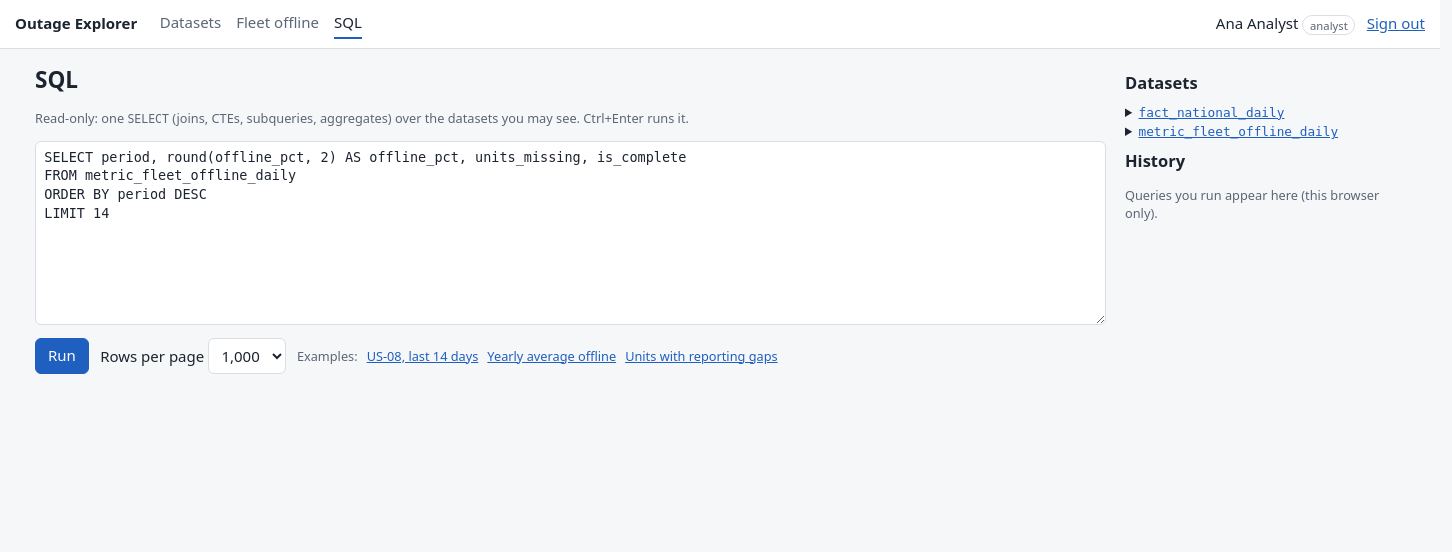
Test: SQL page › pages with next_offset and comes back with Prev
Click the button "Run" at (62, 356), box [35,338,89,374]
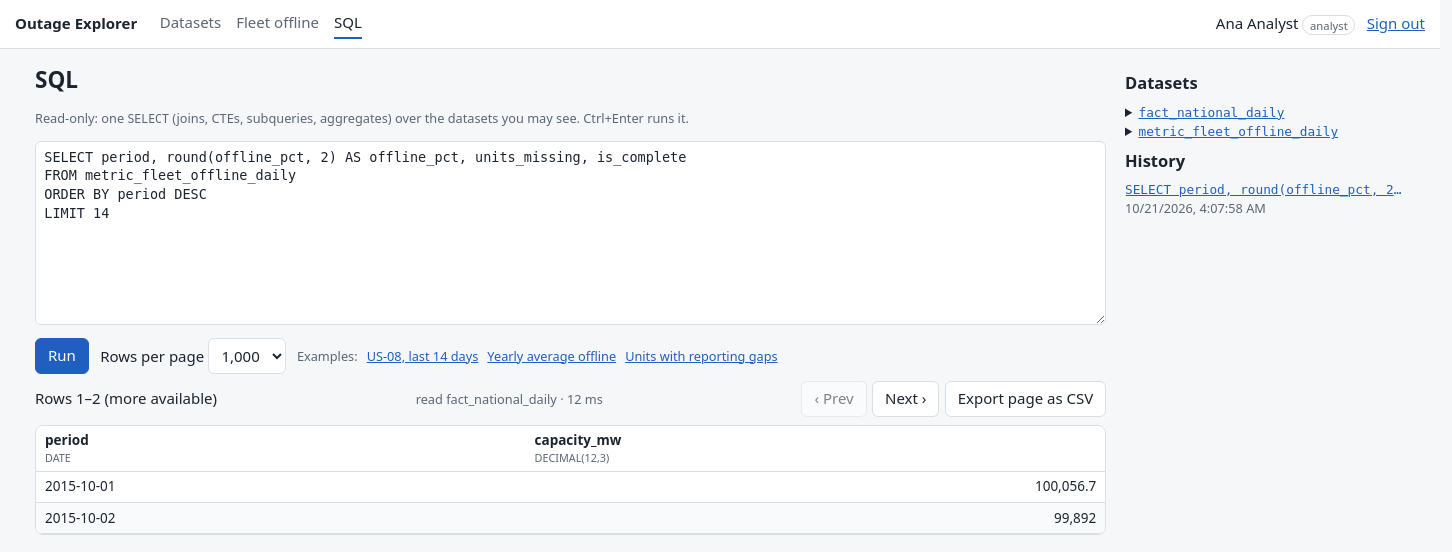
Click the button "Next ›" at (906, 399), box [872,381,940,417]
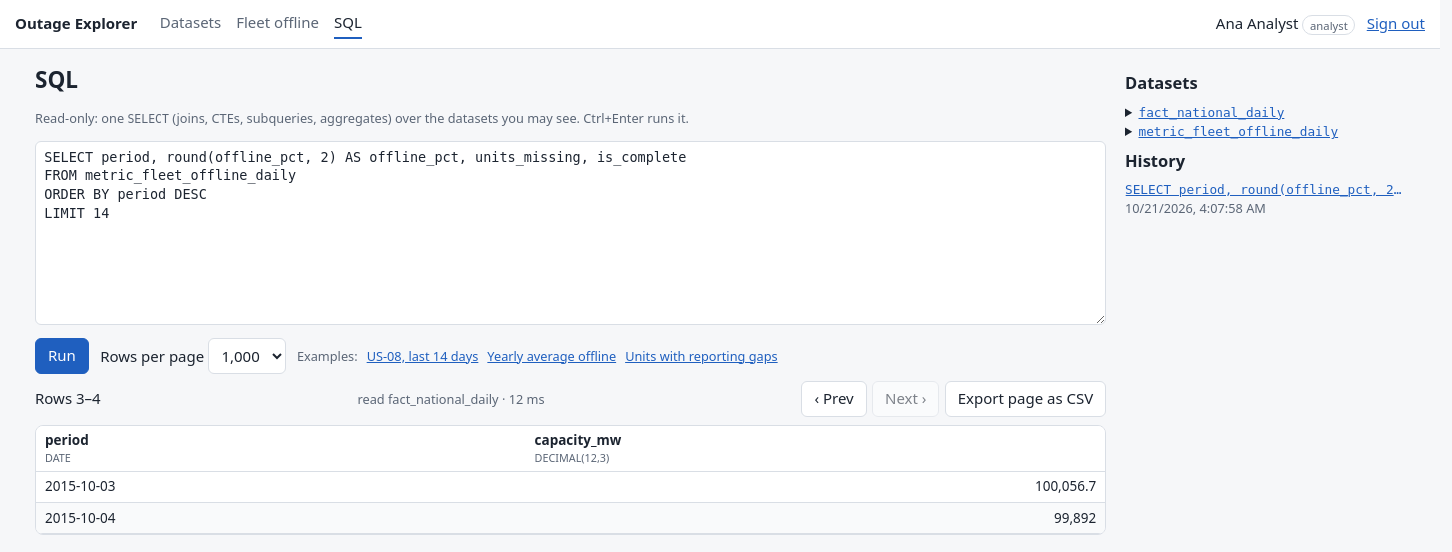
Expected: the text "Rows 3–4" is shown, [35,388,101,410]
Expected: the button "Next ›" is disabled, [872,381,940,417]
Click the button "‹ Prev" at (834, 399), box [801,381,867,417]
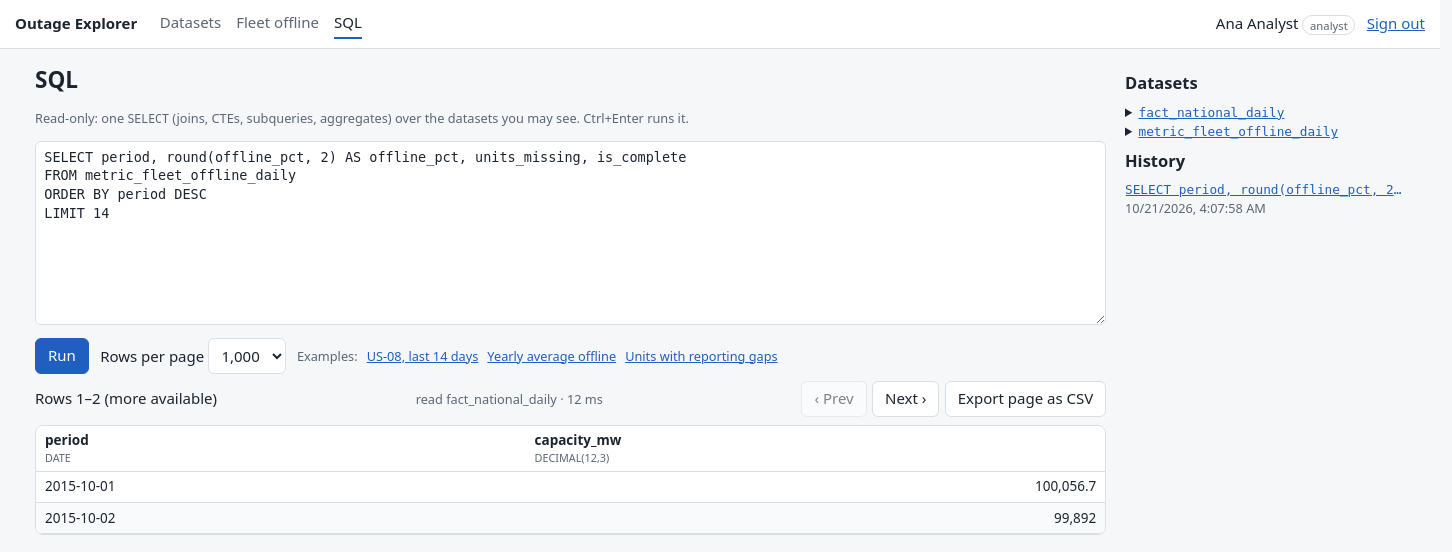
Expected: the text "Rows 1–2 (more available)" is shown, [35,388,217,410]
Expected: the button "‹ Prev" is disabled, [801,381,867,417]
